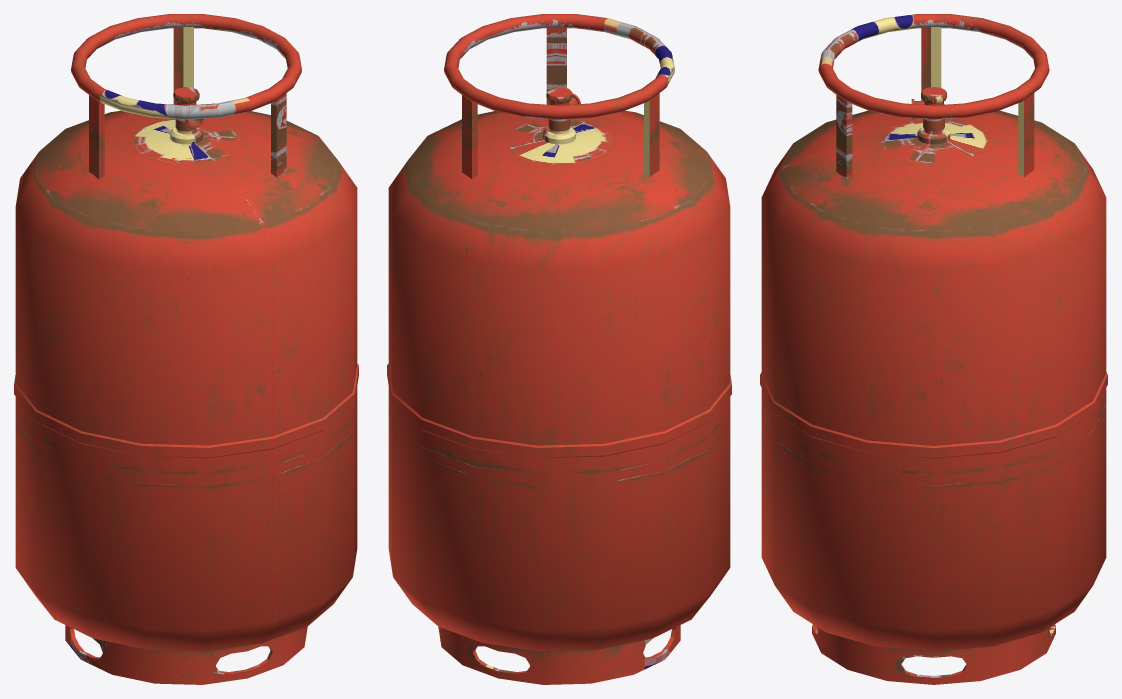
The model's file is gas_cylinder.glb.
3 views of the same model, side by side, from view 1: azimuth 30°, elevation 25°; view 2: azimuth 150°, elevation 25°; view 3: azimuth 270°, elevation 25° (orthographic).
Visible parts, largest first — view 1: body; view 2: body; view 3: body.
Boxes of the visible parts, x1,y1,x2,y2 form: body: (14,14,358,684); body: (387,14,731,684); body: (760,14,1107,684).
Size of the model in its own units: 0.3903 by 0.71 by 0.3903.
Materials: 1 (1 with a texture image).
